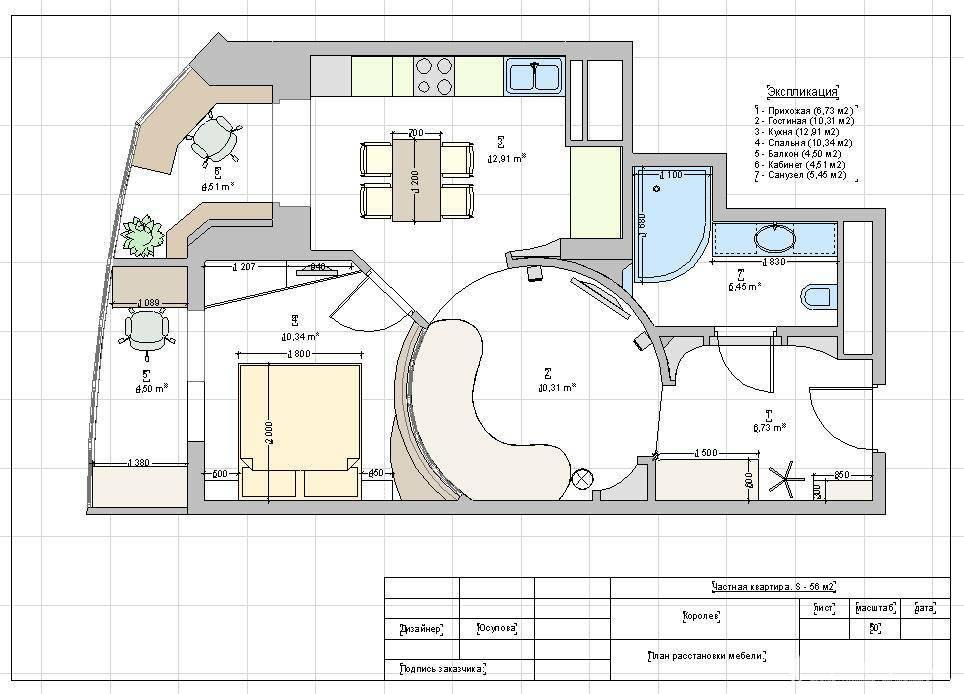bathroom: (633, 166, 838, 325)
bedroom: (203, 261, 414, 504)
hallway: (657, 336, 872, 501)
home_office: (113, 67, 272, 258)
kitchen: (310, 56, 623, 251)
living_room: (410, 268, 662, 501)
terrace: (91, 266, 187, 509)
